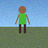person: (15, 6, 30, 33)
